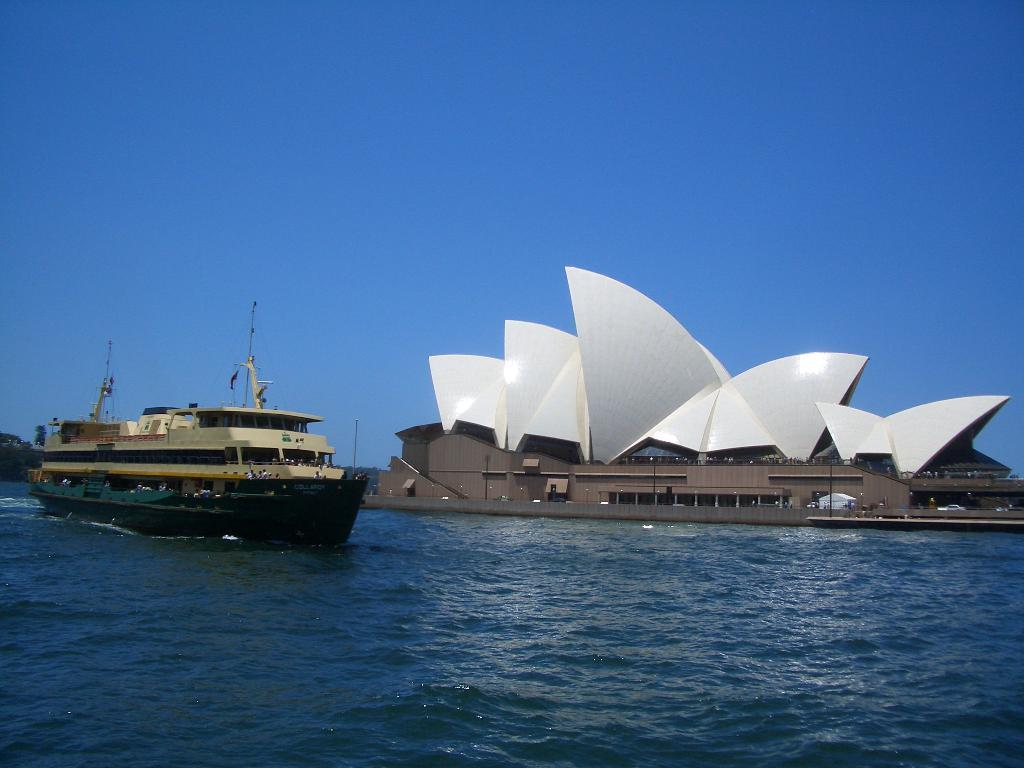PassengerShip: (18, 331, 374, 551)
